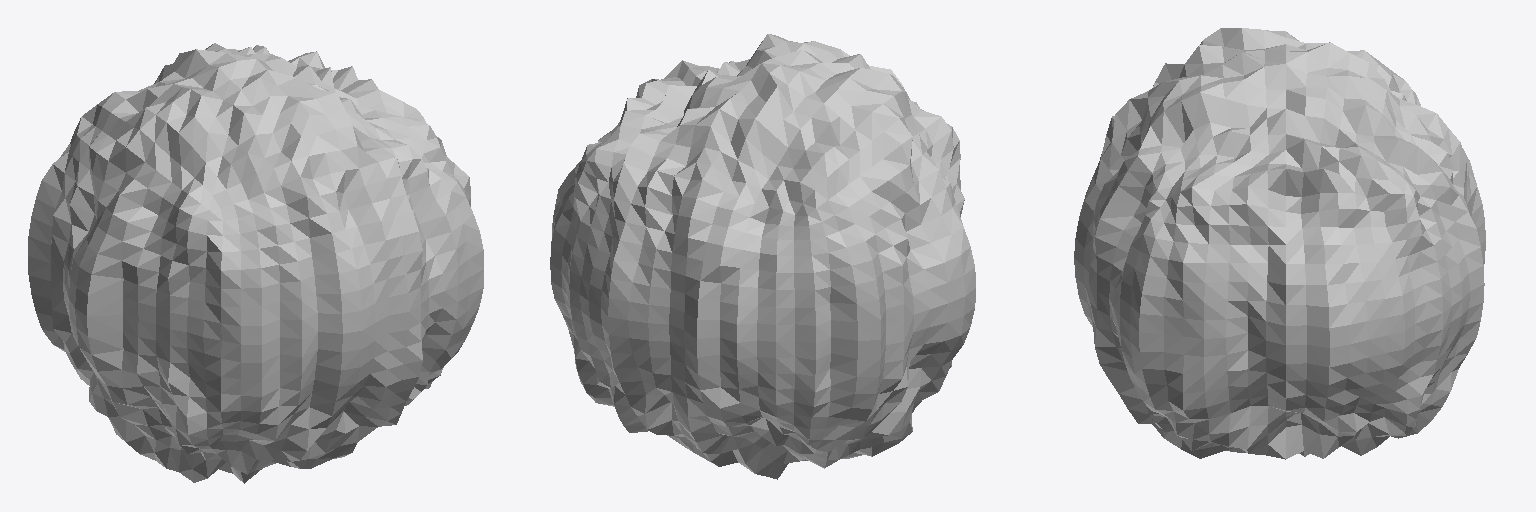
The model's file is asteroid13.obj.
3 renders of one model, left to right at view 1: azimuth 30°, elevation 25°; view 2: azimuth 150°, elevation 25°; view 3: azimuth 270°, elevation 25°, orthographic.
Visible parts, largest first — view 1: Cube_Cube.002; view 2: Cube_Cube.002; view 3: Cube_Cube.002.
Boxes of the visible parts, box(x1,y1,x2,y2) form: Cube_Cube.002: box(28, 43, 483, 483); Cube_Cube.002: box(550, 34, 975, 479); Cube_Cube.002: box(1074, 28, 1485, 459).
Bounding box in the file's own units: 1.79 × 1.77 × 1.68.